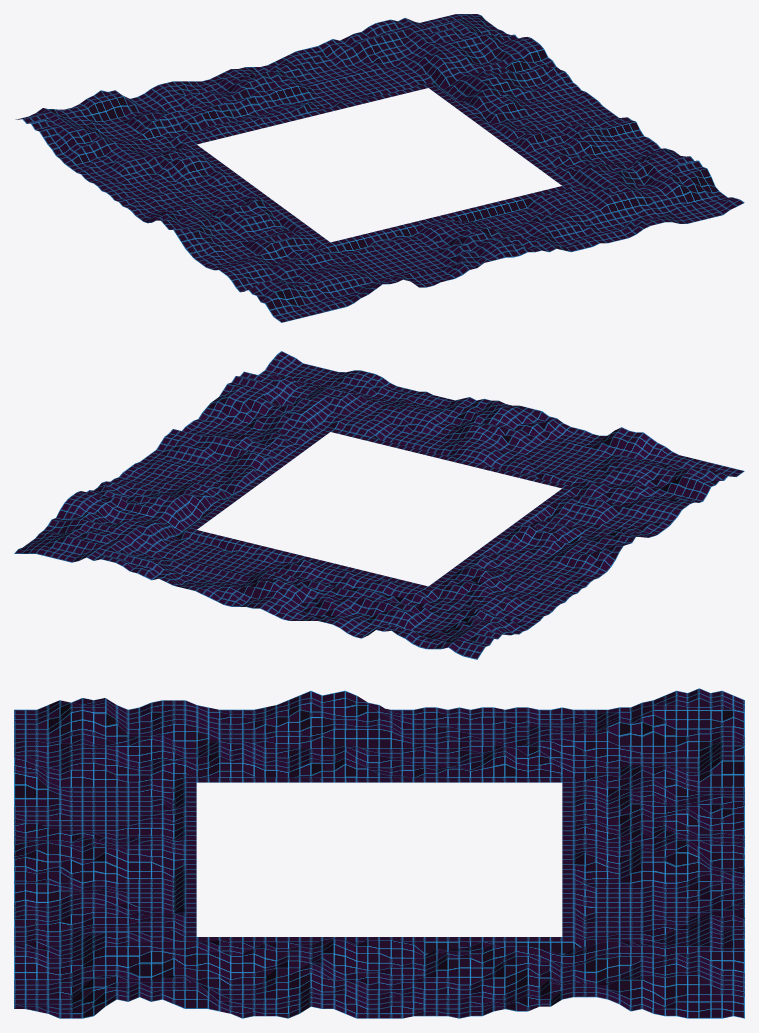
The model's file is retro_mountains.obj.
3 renders of one model, top to bottom at view 1: azimuth 30°, elevation 25°; view 2: azimuth 150°, elevation 25°; view 3: azimuth 270°, elevation 25°, orthographic. The views are drawn at different scales.
Visible parts, largest first — view 1: retro_mountains.obj; view 2: retro_mountains.obj; view 3: retro_mountains.obj.
Boxes of the visible parts, x1,y1,x2,y2 form: retro_mountains.obj: [15, 14, 744, 322]; retro_mountains.obj: [14, 351, 744, 659]; retro_mountains.obj: [14, 688, 744, 1018].
Size of the model in its own units: 1920 by 72.21 by 1920.
Materials: 1 (1 with a texture image).
